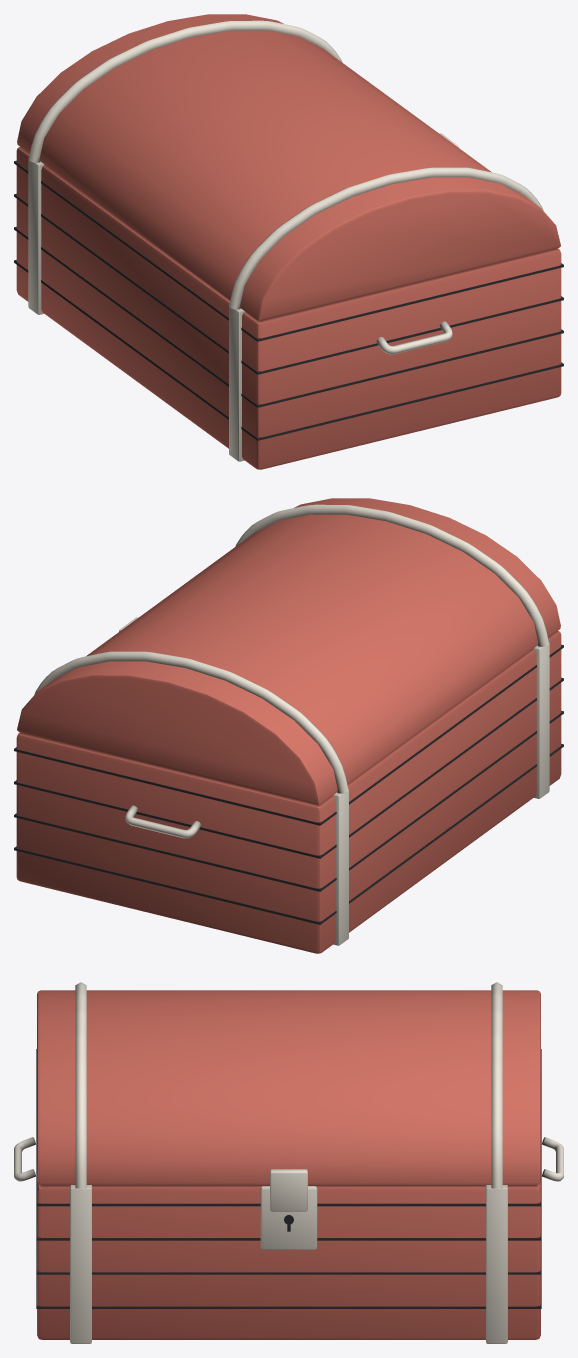
File: nd_chest_1.glb
The picture shows the model from 3 angles, top to bottom: view 1: azimuth 30°, elevation 25°; view 2: azimuth 150°, elevation 25°; view 3: azimuth 270°, elevation 25°; orthographic projection. The views are drawn at different scales.
Visible parts, largest first — view 1: LID, PART; view 2: LID, PART; view 3: LID, PART.
Boxes of the visible parts, x1=… form: LID: x1=17, y1=14, x2=560, y2=320; PART: x1=14, y1=147, x2=563, y2=469; LID: x1=17, y1=498, x2=560, y2=804; PART: x1=14, y1=631, x2=563, y2=953; LID: x1=37, y1=982, x2=540, y2=1211; PART: x1=14, y1=1049, x2=563, y2=1343.
Size of the model in its own units: 0.6107 by 0.4469 by 0.8729.
